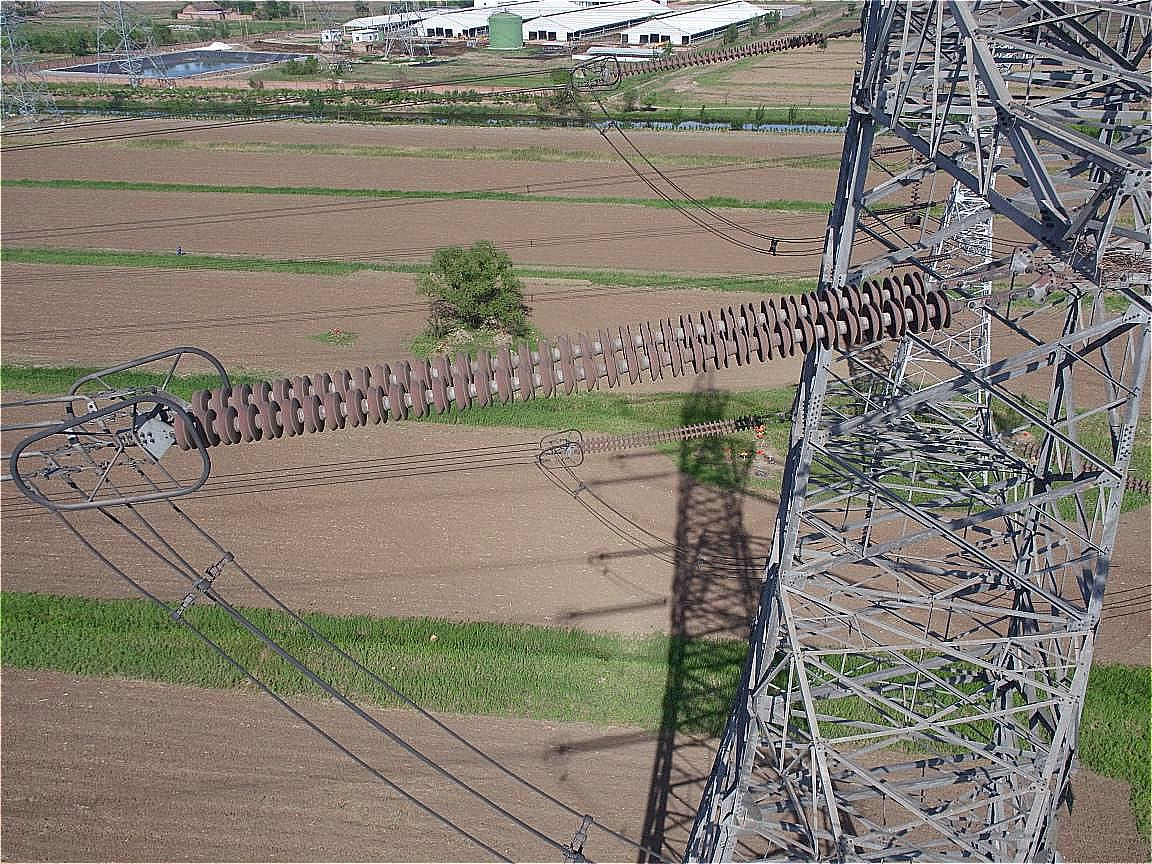insultor2: (145, 263, 970, 445)
